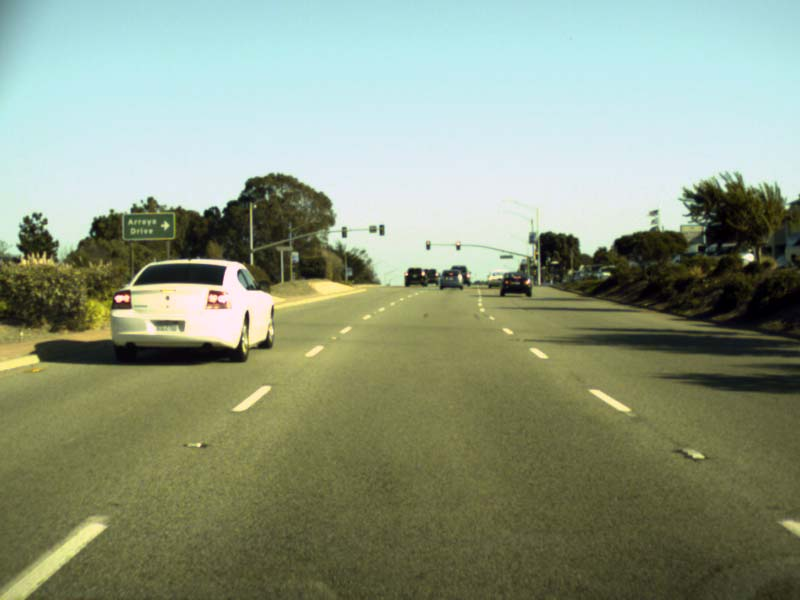Red: (455, 241, 461, 250), (425, 240, 430, 250)
